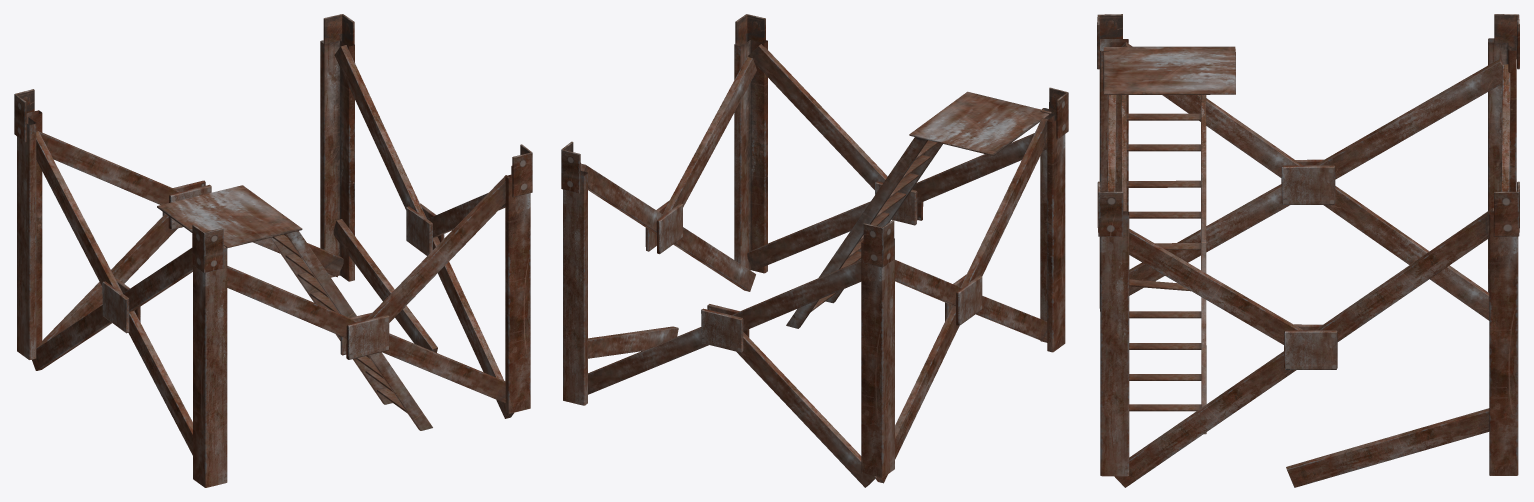
File: SM_Tower_Mid.fbx
3 renders of one model, left to right at view 1: azimuth 30°, elevation 25°; view 2: azimuth 150°, elevation 25°; view 3: azimuth 270°, elevation 25°, orthographic. The views are drawn at different scales.
Visible parts, largest first — view 1: SM_Tower_Mid_LOD0; view 2: SM_Tower_Mid_LOD0; view 3: SM_Tower_Mid_LOD0.
Part boxes in pixels (<box>): SM_Tower_Mid_LOD0: <box>14,14,532,487</box>; SM_Tower_Mid_LOD0: <box>561,14,1068,487</box>; SM_Tower_Mid_LOD0: <box>1097,14,1519,487</box>.
Size of the model in its own units: 315 by 315 by 250.
1 material, 1 textured.
